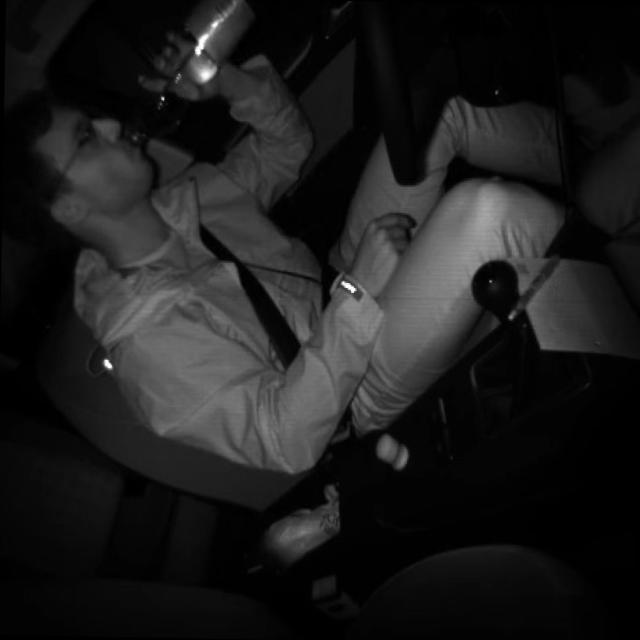pen: (504, 248, 563, 323)
